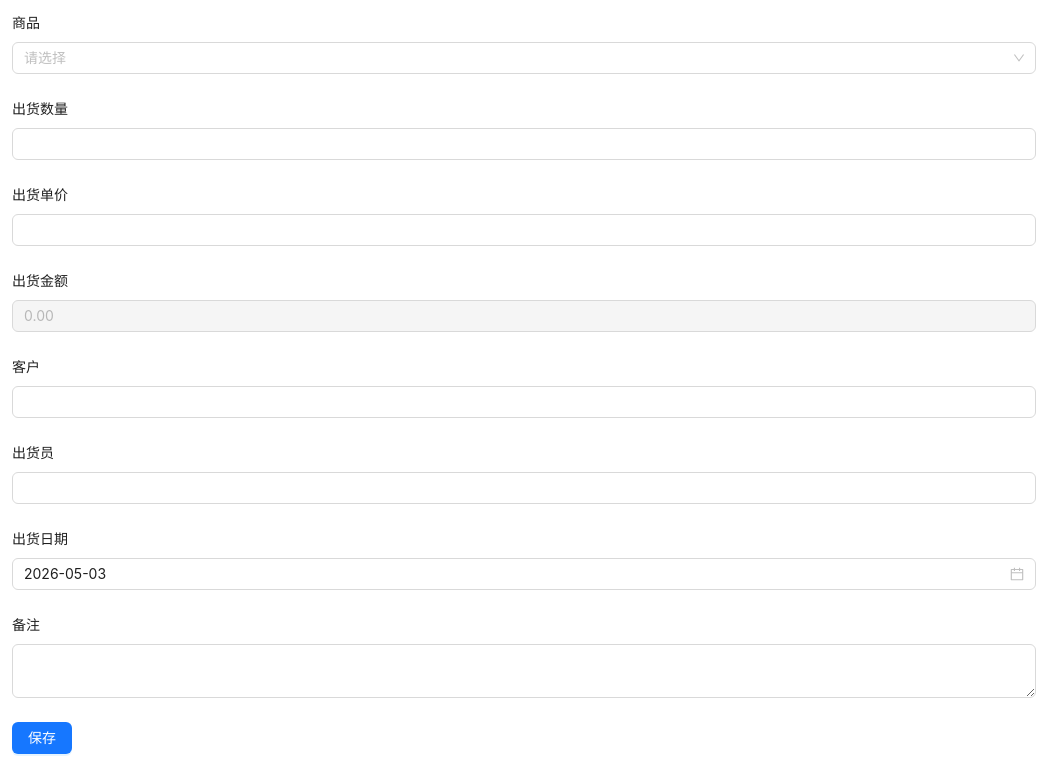
Test: SalesOrderForm — 字段校验 › 客户为空 → 客户名称不能为空
Click the dropdown labelled "商品" at (515, 58), box [24,43,1006,73]
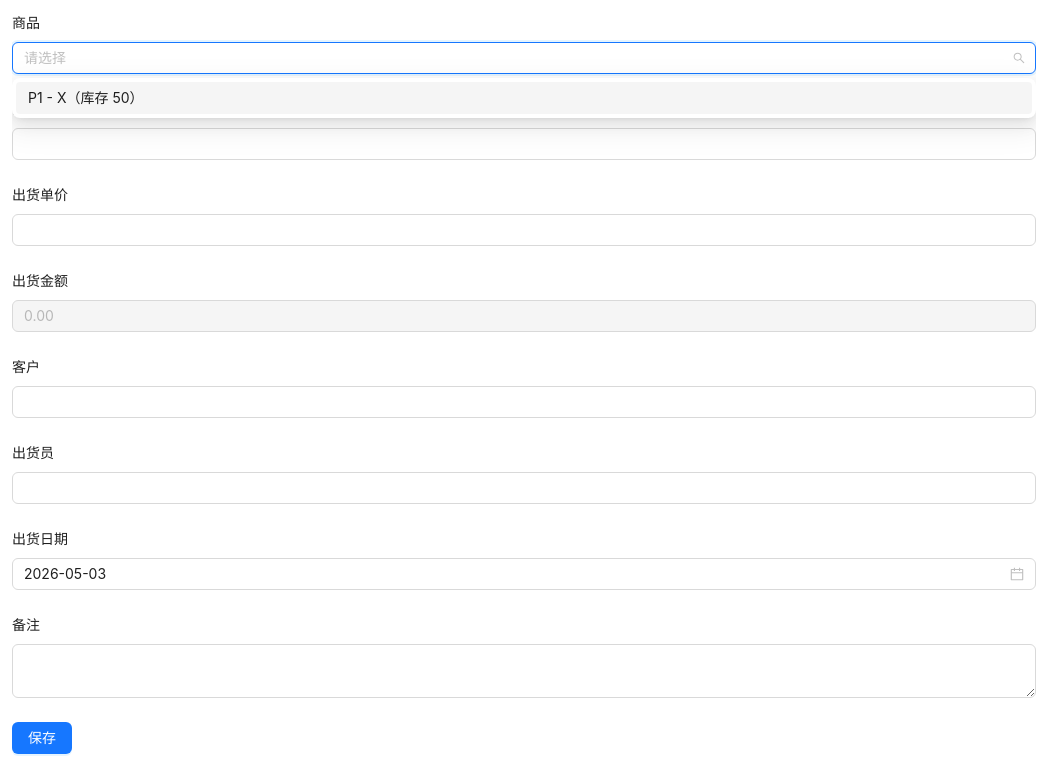
Click the element showing "P1 - X（库存 50）" at (524, 98), box [16,82,1032,114]
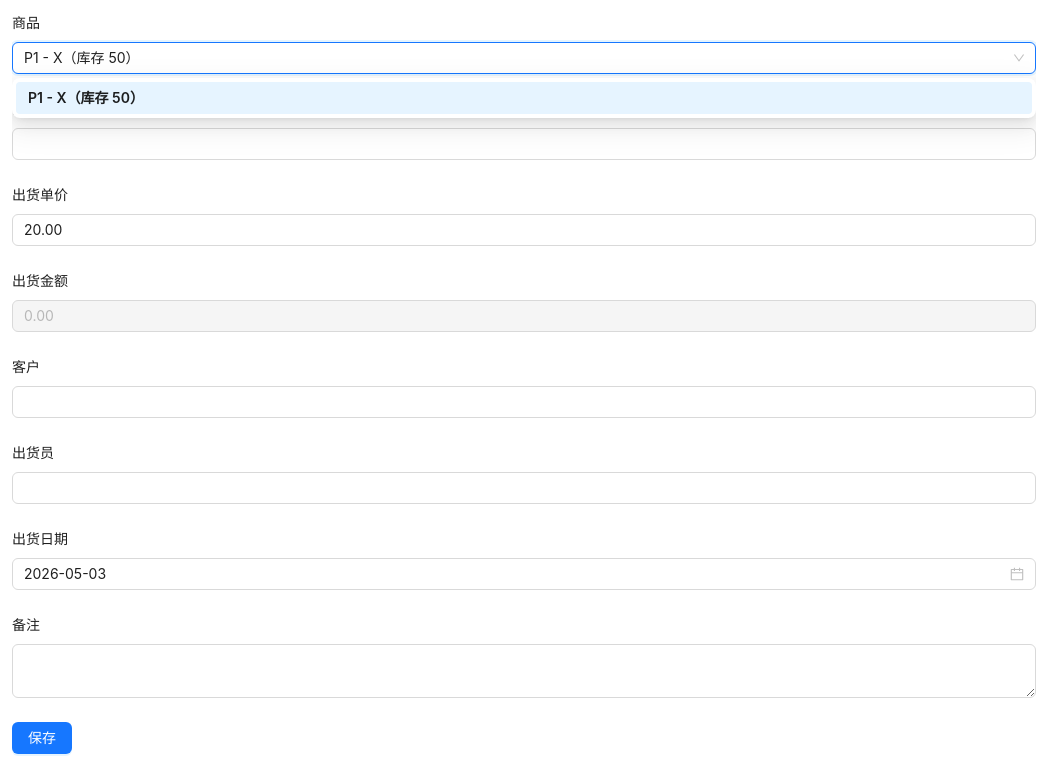
Type "5" into the number field labelled "出货数量" at (524, 144), box [13,129,1035,159]
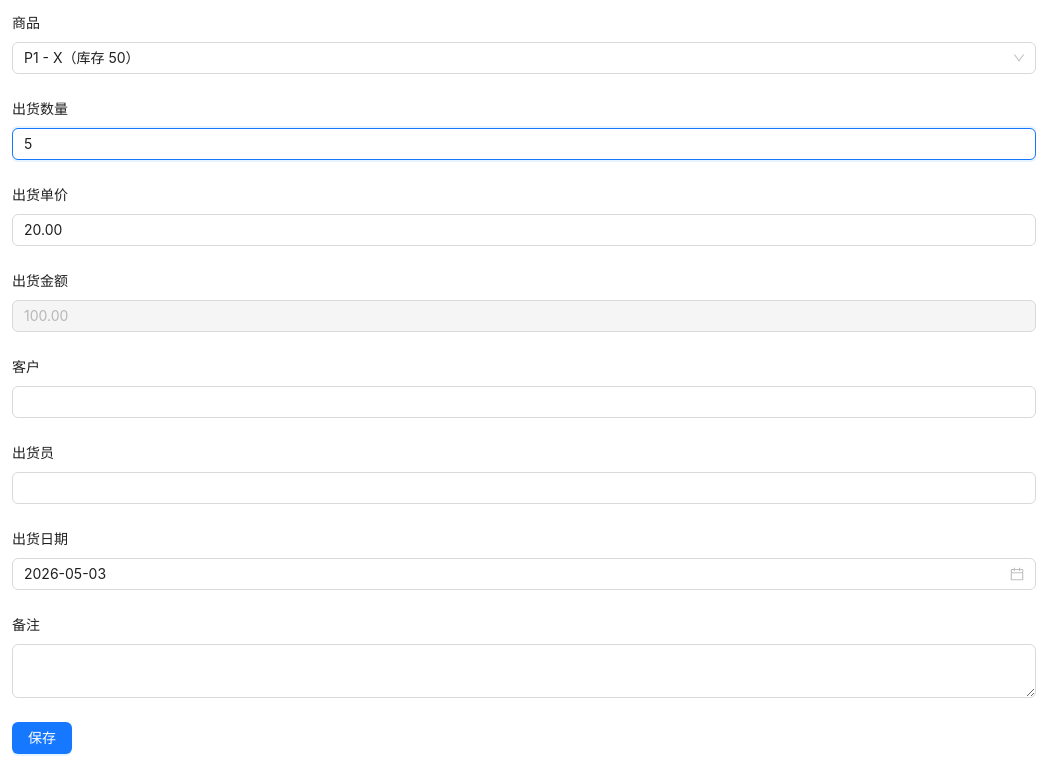
Replace the text in the number field labelled "出货单价" with "20" at (524, 230), box [13,215,1035,245]
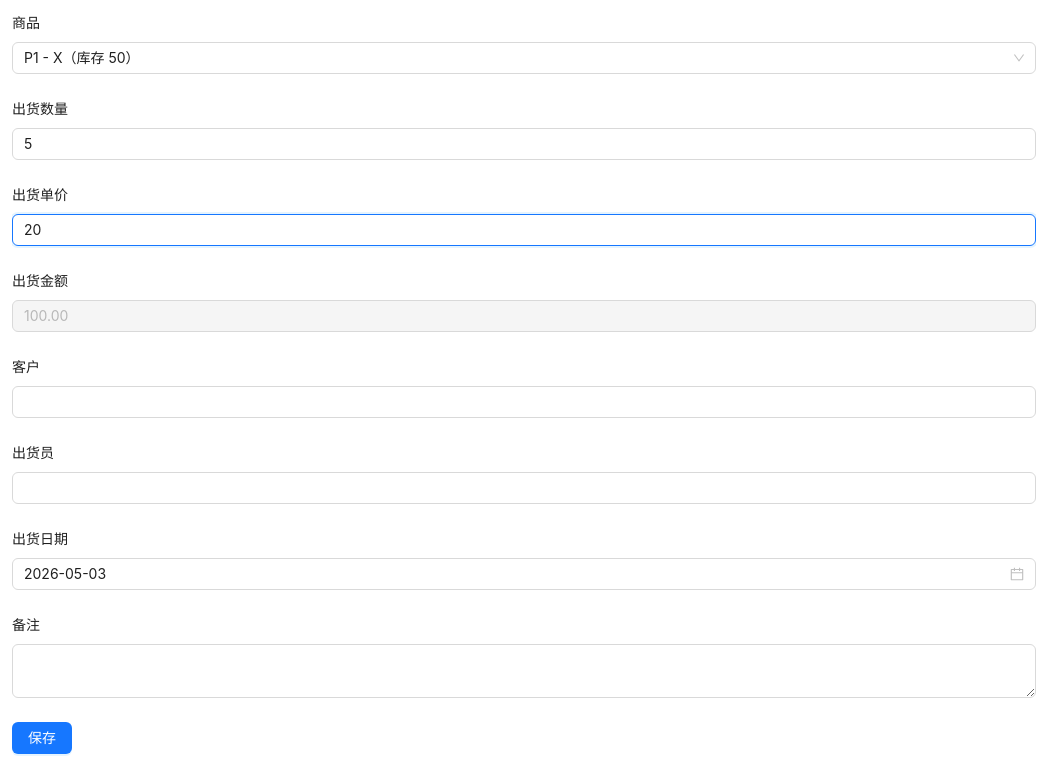
Type "李四" into the field labelled "出货员" at (524, 488), box [12,472,1036,504]
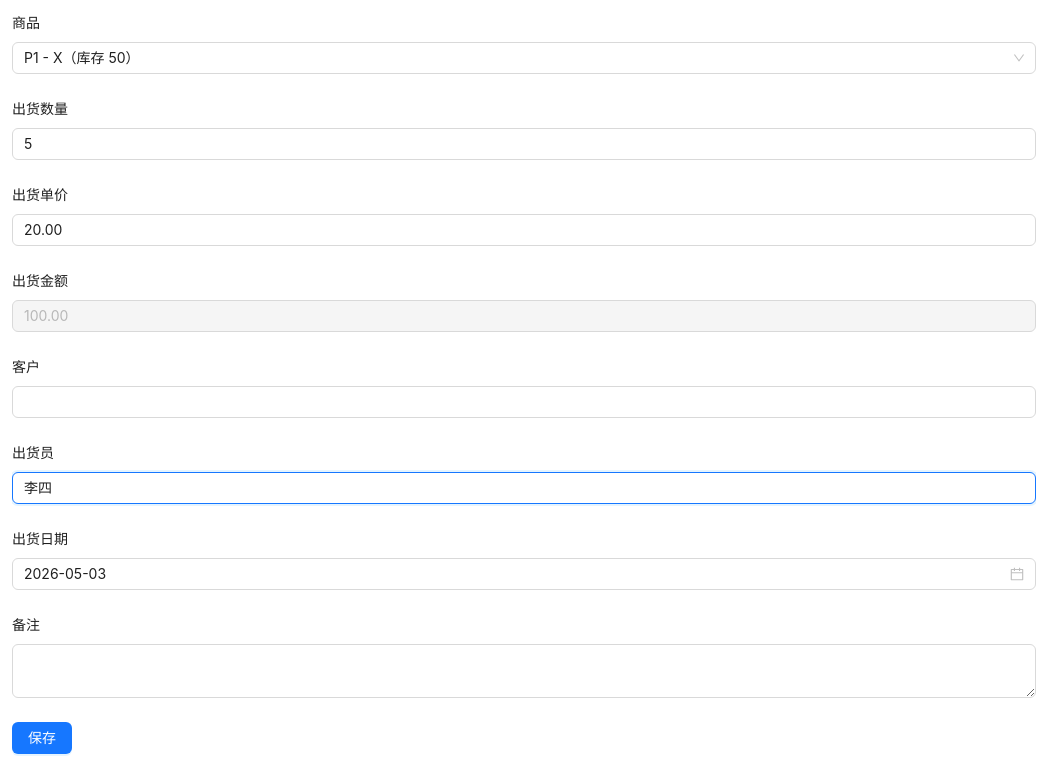
Click the button "保存" at (42, 738), box [12,722,72,754]
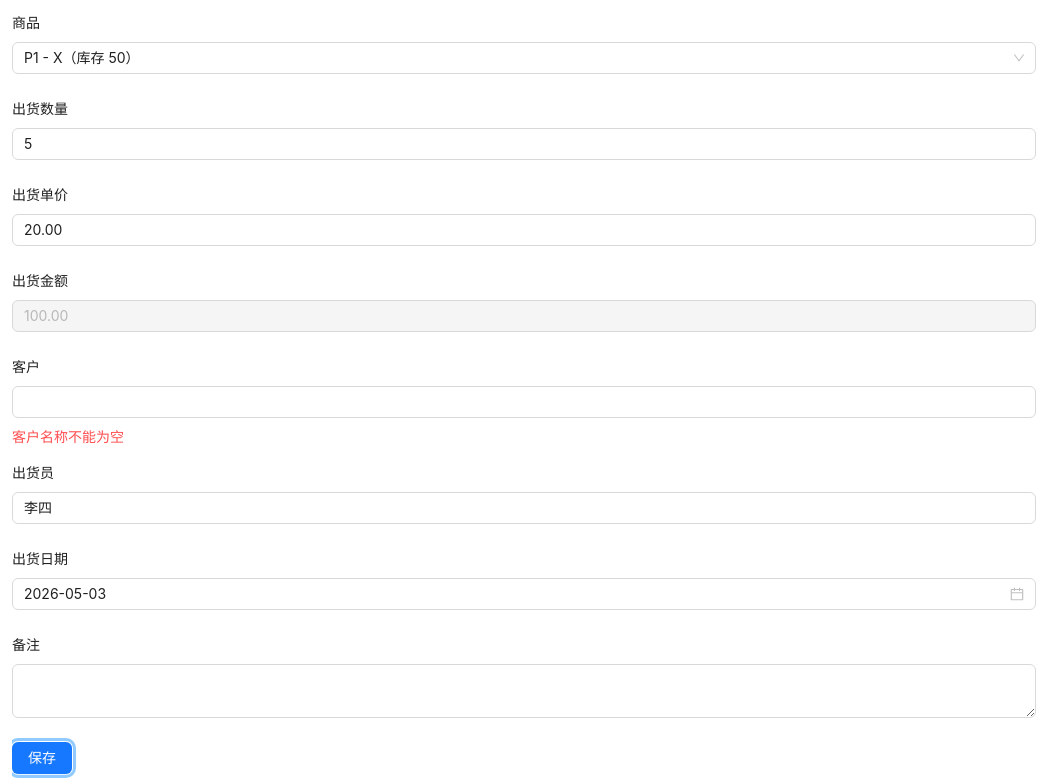
Expected: the text "客户名称不能为空" is shown, [12,428,124,445]
